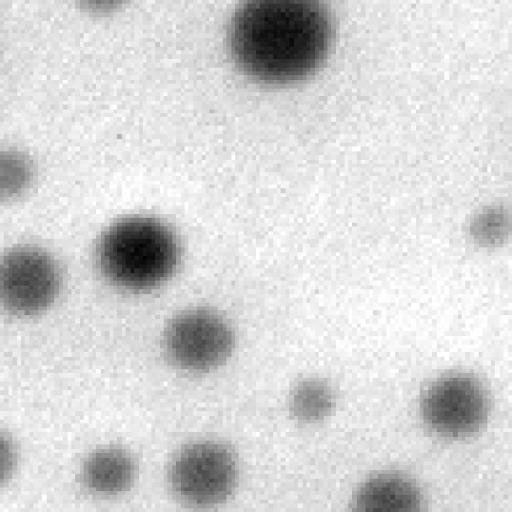Nanoparticles: (223, 0, 344, 93), (94, 210, 188, 295), (412, 359, 500, 439), (157, 299, 240, 378), (164, 437, 243, 510), (0, 241, 71, 316), (348, 463, 436, 512), (79, 440, 145, 498), (284, 374, 343, 425), (464, 195, 512, 256), (0, 148, 35, 196), (76, 0, 134, 21), (0, 427, 15, 491)
